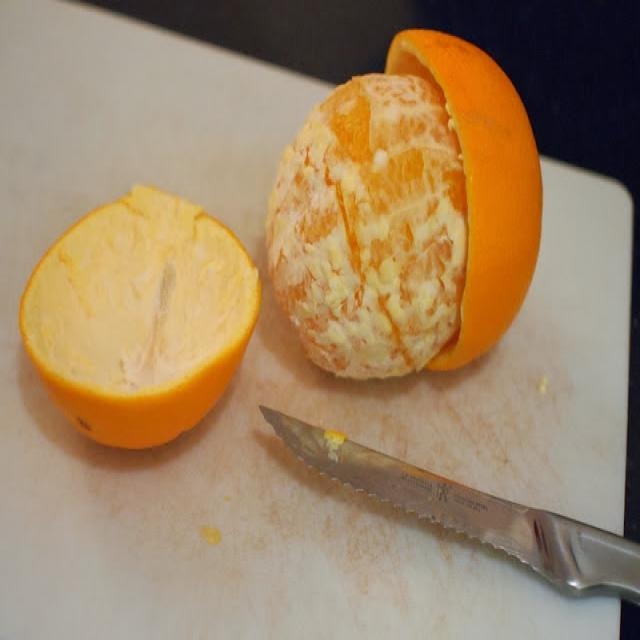Cascara de naranja: (27, 190, 266, 447), (382, 26, 548, 379)
